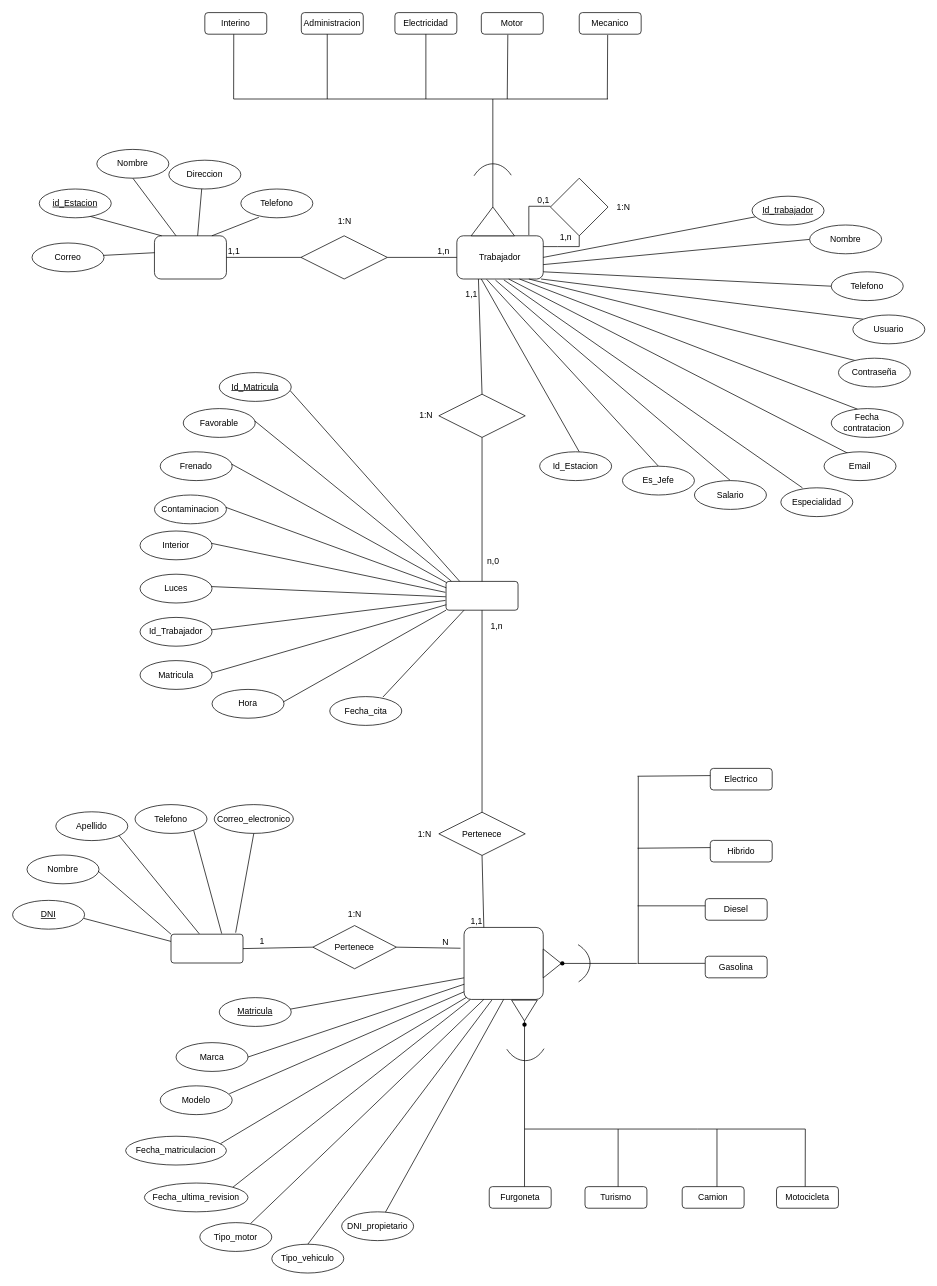
Image size: 937x1286. Some labels were removed from this diagram. The box of each missing label's shape, as (x1, y1, x2, y2) in pixels:
Atiende: (438, 393, 525, 437)
Es Jefe: (550, 177, 608, 236)
Estacion: (154, 235, 226, 279)
Informe / Cita: (445, 581, 518, 610)
Propietario: (170, 933, 243, 963)
Trabaja: (300, 235, 387, 279)
Vehiculo: (463, 927, 543, 999)
